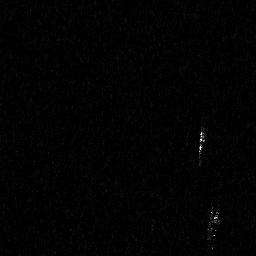ship: (207, 200, 219, 240), (198, 125, 205, 161)
